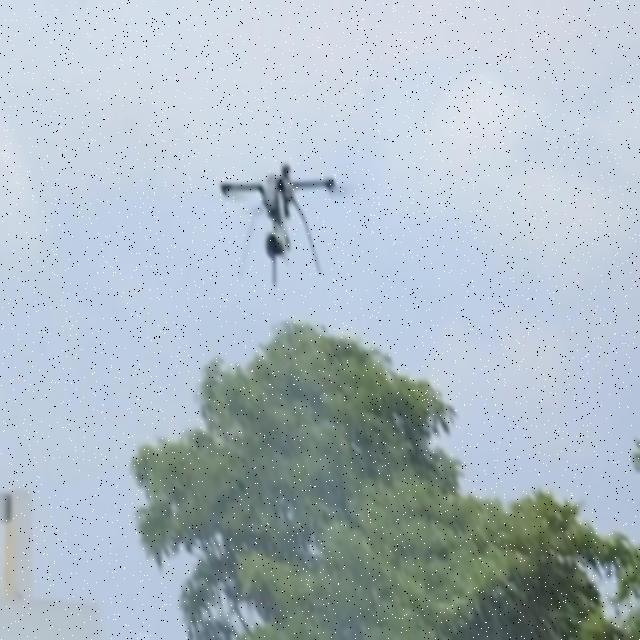UAV: (219, 162, 337, 290)
